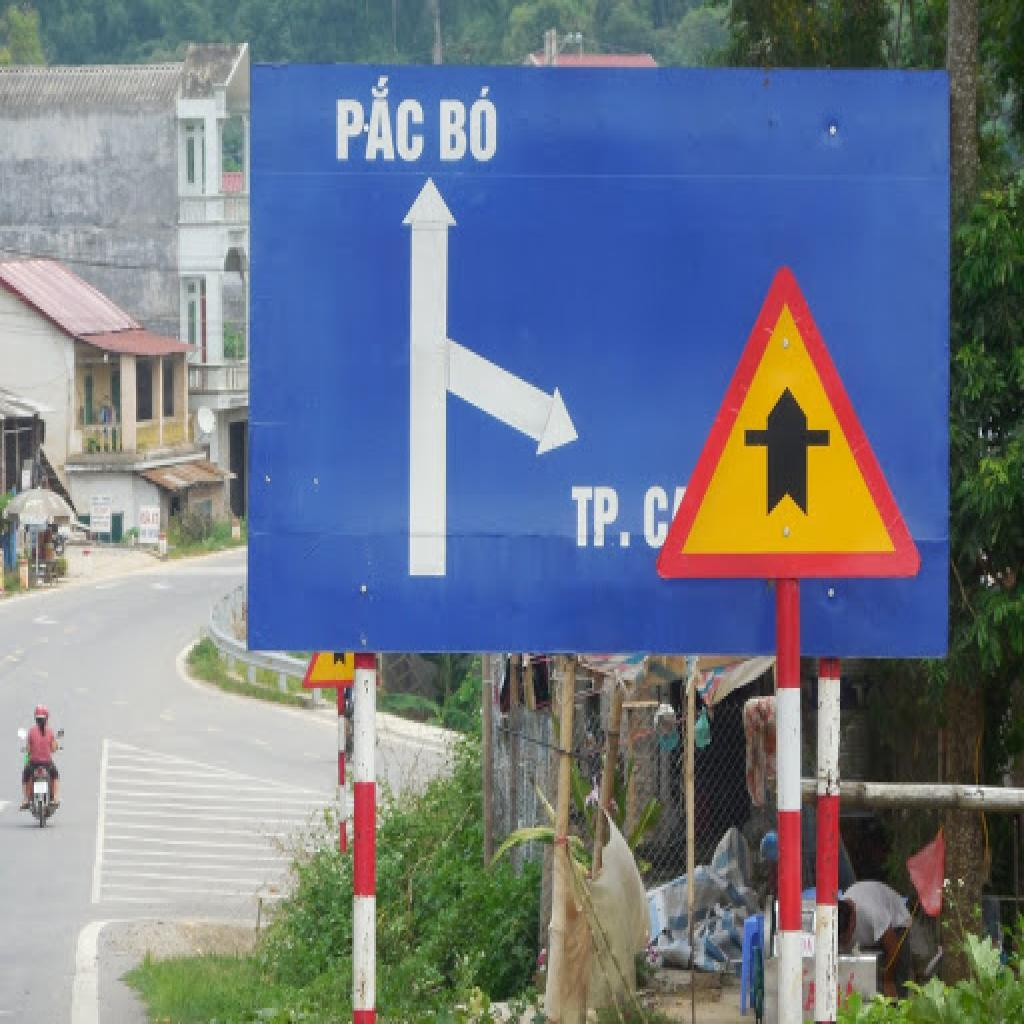text: (330, 72, 428, 166), (434, 86, 504, 172), (564, 481, 636, 556), (640, 484, 672, 559)
